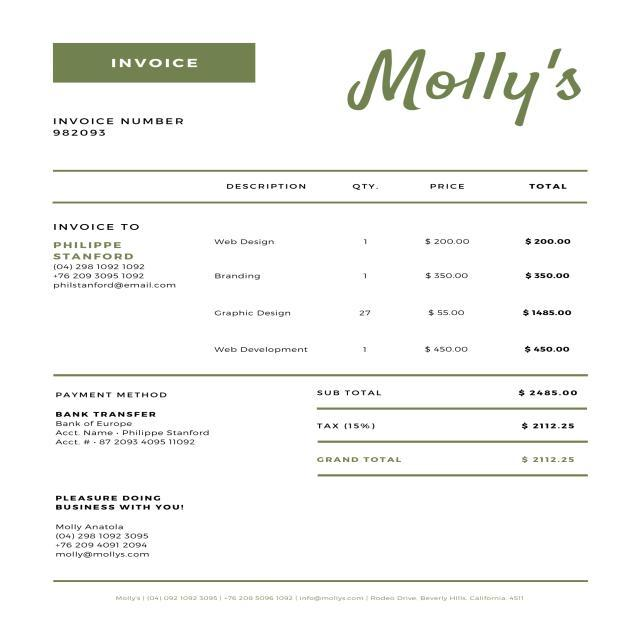ROI: (29, 171, 605, 364), (299, 379, 596, 486), (336, 41, 607, 141), (39, 484, 209, 568), (91, 586, 559, 616), (51, 386, 219, 468), (54, 36, 260, 82), (39, 104, 194, 150)
